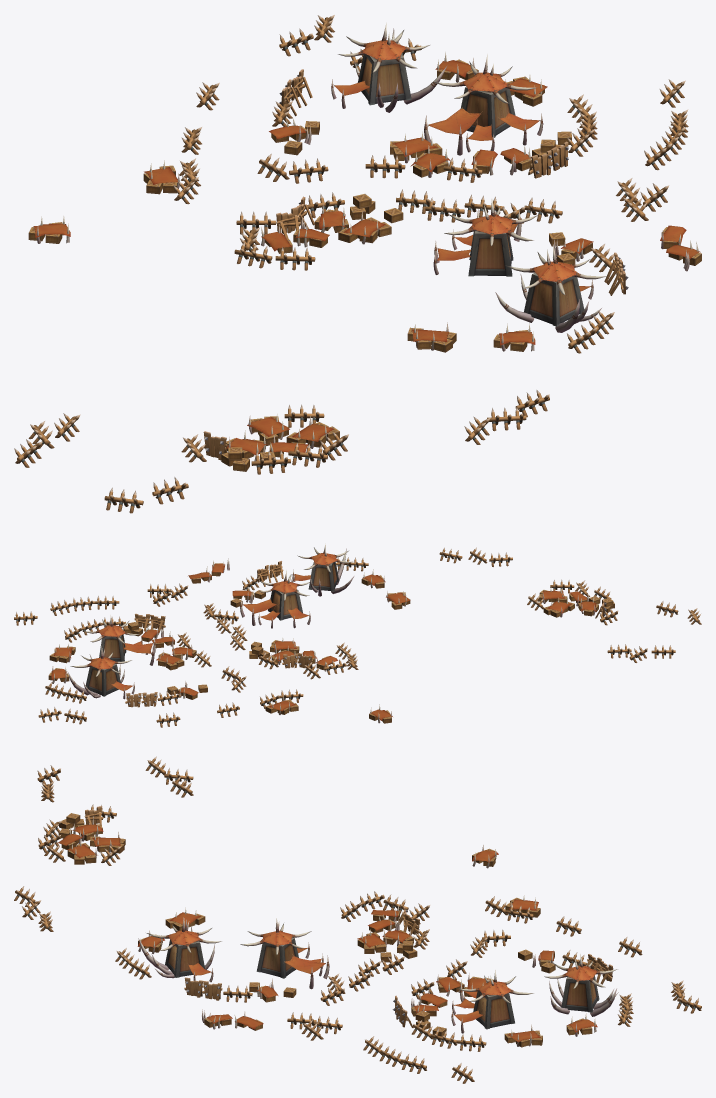
File: zhalan_group3.FBX
3 renders of one model, top to bottom at view 1: azimuth 30°, elevation 25°; view 2: azimuth 150°, elevation 25°; view 3: azimuth 270°, elevation 25°, orthographic. The views are drawn at different scales.
Visible parts, largest first — view 1: zhalan_group3; view 2: zhalan_group3; view 3: zhalan_group3.
Boxes of the visible parts, left/top/right/bottom form: zhalan_group3: left=14, top=15, right=701, bottom=513; zhalan_group3: left=14, top=543, right=701, bottom=727; zhalan_group3: left=14, top=756, right=701, bottom=1083.
Size of the model in its own units: 136 by 11.85 by 125.
